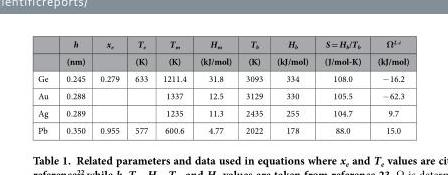table: (37, 37, 408, 135)
table column: (315, 37, 368, 135), (192, 37, 238, 135), (269, 37, 315, 135), (368, 37, 408, 135), (154, 37, 192, 135), (56, 37, 92, 135), (92, 37, 126, 135), (238, 37, 269, 135), (126, 37, 154, 135), (37, 37, 56, 135)
table column header: (37, 37, 408, 69)
table row: (37, 86, 408, 104), (37, 52, 408, 69), (37, 69, 408, 86), (37, 104, 408, 121), (37, 37, 408, 52), (37, 121, 408, 135)
table spanning cell: (315, 37, 368, 69), (192, 37, 238, 69), (269, 37, 315, 69), (368, 37, 408, 69), (154, 37, 192, 69), (56, 37, 92, 69), (92, 37, 126, 69), (238, 37, 269, 69), (126, 37, 154, 69)
